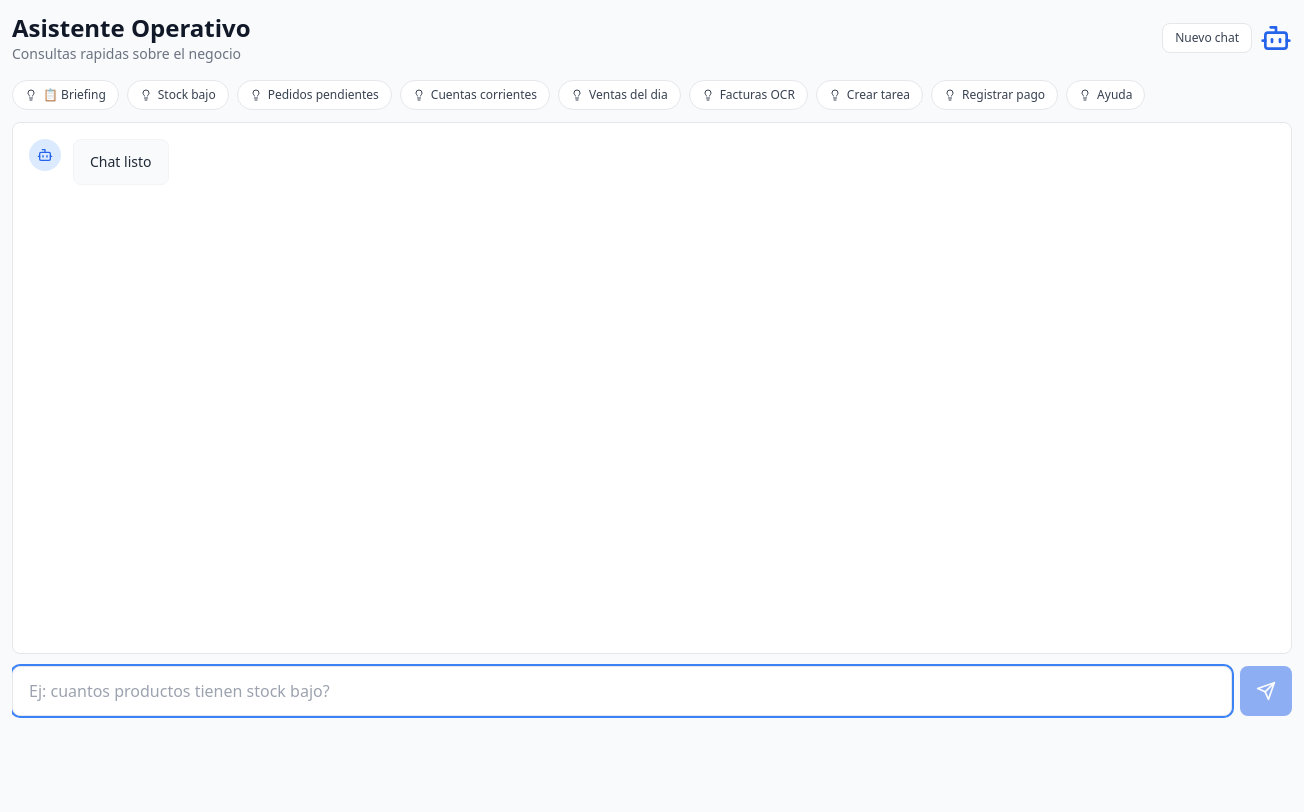
Scenario: Asistente › shows retry button on error and retries the failed message
The image size is (1304, 812).
Type "ventas del dia" into the field with placeholder "Ej: cuantos productos tienen stock bajo?". click: (622, 691)
box: [12, 666, 1232, 716]
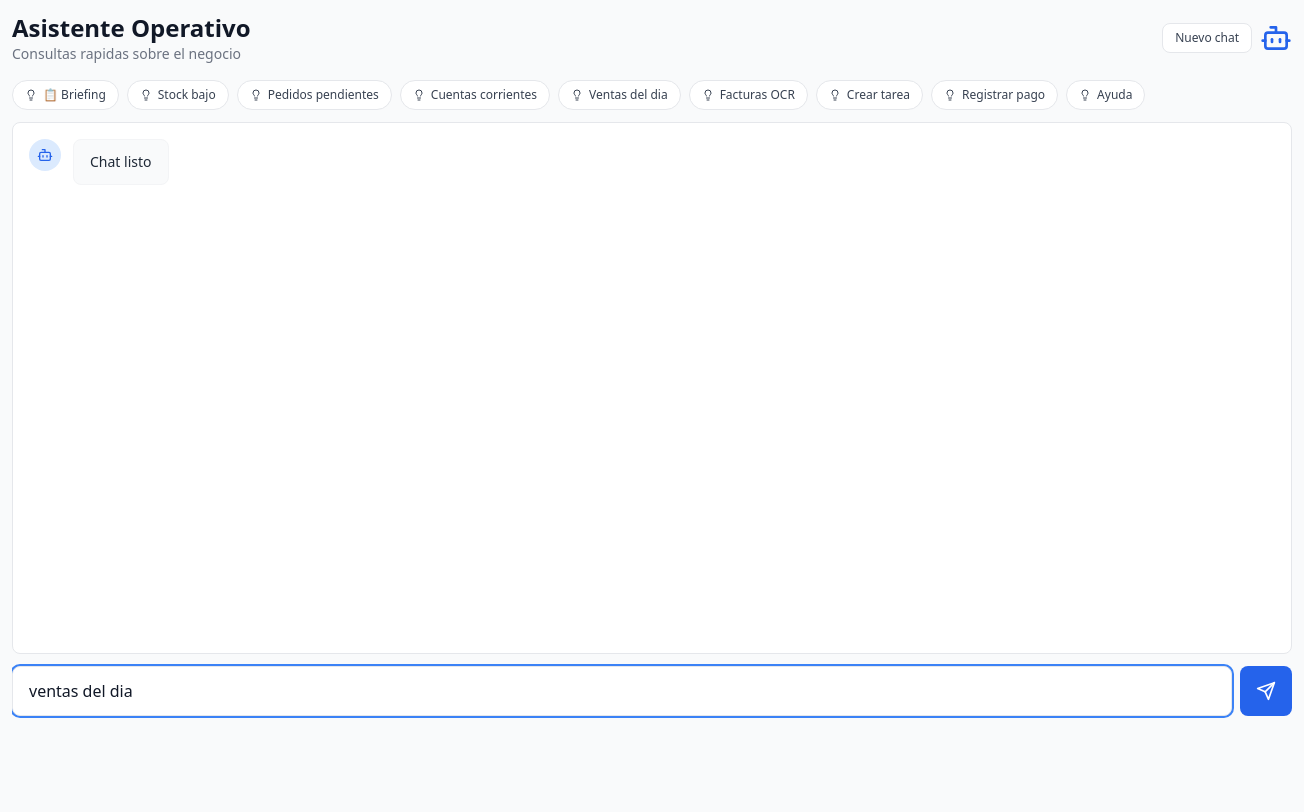
Click the button titled "Enviar". click: (1266, 691)
box: [1240, 666, 1292, 716]
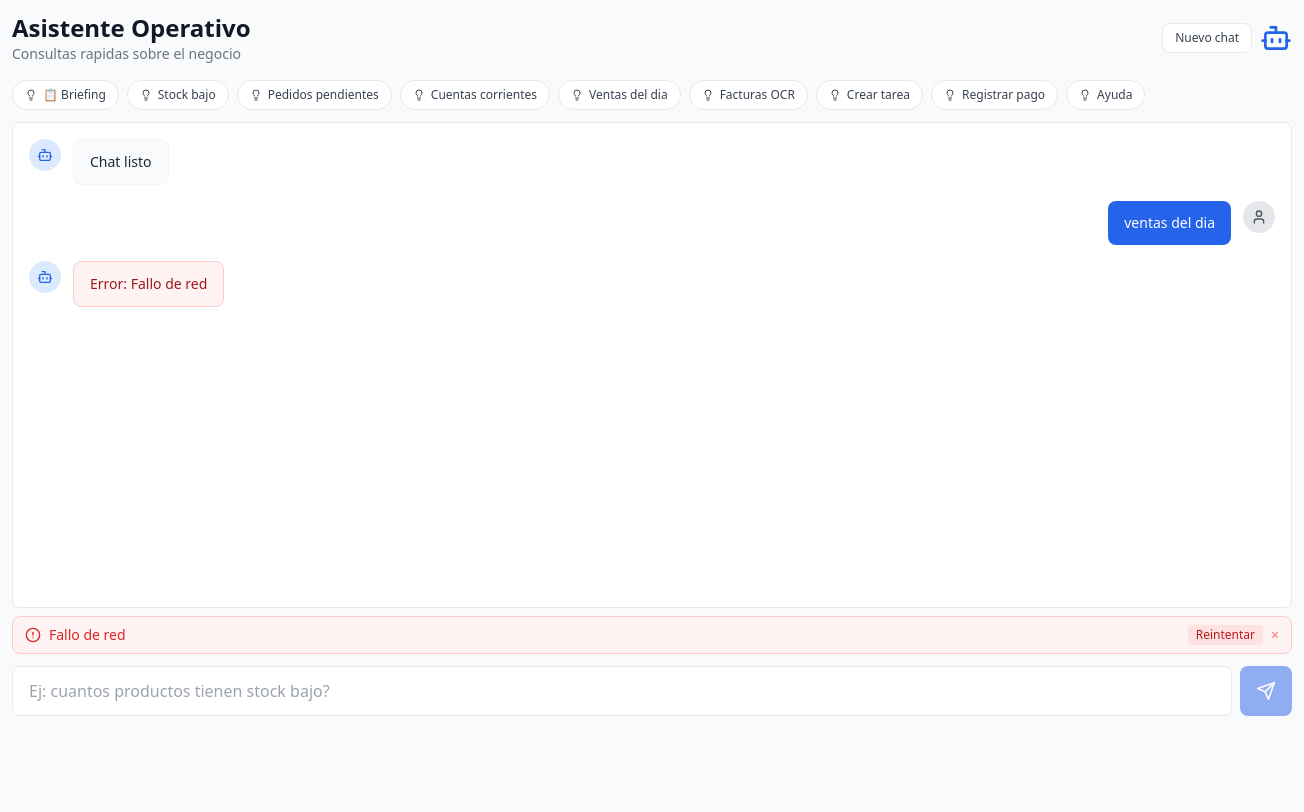
expect the text "Error: Fallo de red" is shown: met, box [90, 274, 207, 294]
Click the button "Reintentar". click: (1225, 635)
box: [1188, 625, 1263, 645]
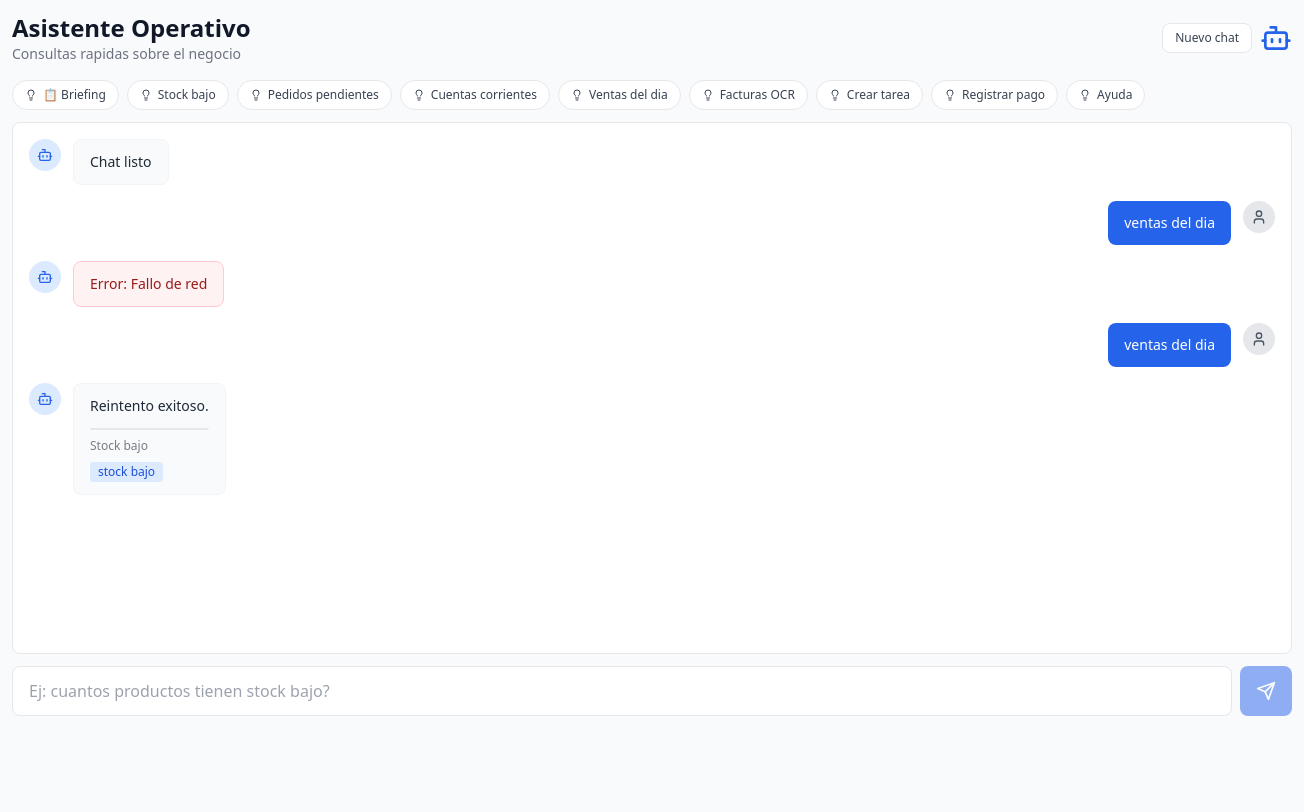
expect the text "Reintento exitoso." is shown: met, box [90, 396, 209, 416]
